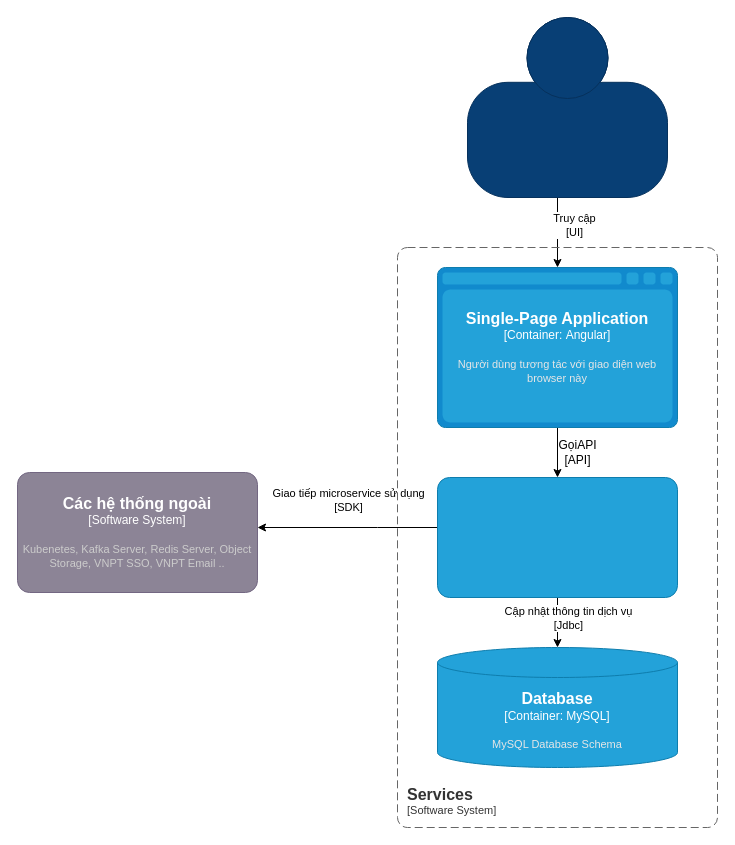
Image size: 735x845. Some labels were removed from this diagram. Each missing label, with the box of its shape:
API Application [Container: SpringBoot] Cung cấp API để web application gọi đến: (436, 476, 678, 598)
Người dùng [Người dùng] Người dùng thao tác với hệ thống: (466, 16, 668, 198)
